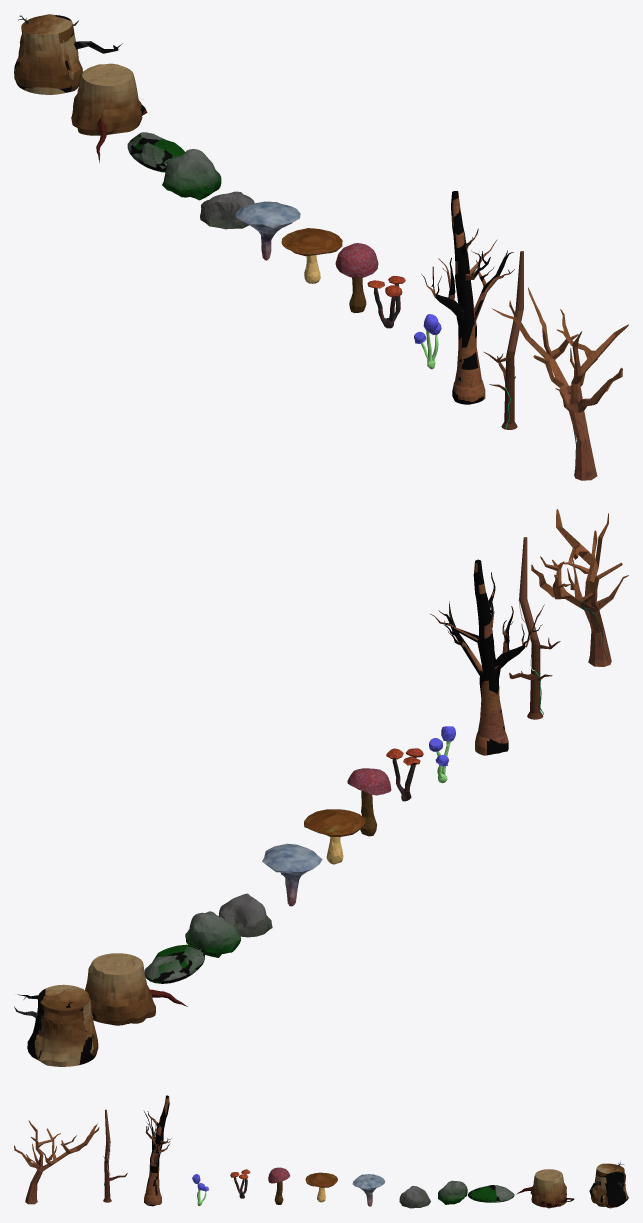
File: Props-2.fbx
3 renders of one model, top to bottom at view 1: azimuth 30°, elevation 25°; view 2: azimuth 150°, elevation 25°; view 3: azimuth 270°, elevation 25°, orthographic. The views are drawn at different scales.
Parts seen in each view (by area): view 1: Tree_1, Tree_3, Stump_1, Stump_2, Rock_2, Mush_1, Tree_2, Rock_1, Rock_3, Mush_2, Mush_4; view 2: Tree_1, Stump_1, Stump_2, Tree_3, Tree_2, Rock_2, Mush_1, Rock_1, Rock_3, Mush_2, Mush_4; view 3: Tree_1, Tree_3, Stump_1, Stump_2, Rock_1, Rock_2, Rock_3, Tree_2, Mush_1, Mush_2, Mush_4.
Boxes of the visible parts, x1=… form: Tree_1: x1=421, y1=191, x2=514, y2=404; Tree_3: x1=492, y1=287, x2=628, y2=480; Stump_1: x1=14, y1=14, x2=83, y2=94; Stump_2: x1=71, y1=63, x2=142, y2=135; Rock_2: x1=162, y1=149, x2=221, y2=200; Mush_1: x1=236, y1=201, x2=300, y2=260; Tree_2: x1=483, y1=251, x2=523, y2=429; Rock_1: x1=127, y1=132, x2=184, y2=172; Rock_3: x1=200, y1=191, x2=254, y2=229; Mush_2: x1=281, y1=228, x2=342, y2=256; Mush_4: x1=335, y1=243, x2=378, y2=278; Tree_1: x1=430, y1=559, x2=544, y2=755; Stump_1: x1=27, y1=984, x2=98, y2=1066; Stump_2: x1=85, y1=953, x2=155, y2=1025; Tree_3: x1=531, y1=509, x2=628, y2=666; Tree_2: x1=509, y1=537, x2=560, y2=719; Rock_2: x1=185, y1=911, x2=241, y2=957; Mush_1: x1=262, y1=843, x2=322, y2=906; Rock_1: x1=144, y1=944, x2=204, y2=983; Rock_3: x1=218, y1=893, x2=272, y2=937; Mush_2: x1=304, y1=809, x2=365, y2=836; Mush_4: x1=347, y1=768, x2=391, y2=795; Tree_1: x1=143, y1=1095, x2=171, y2=1206; Tree_3: x1=14, y1=1120, x2=99, y2=1204; Stump_1: x1=591, y1=1163, x2=628, y2=1208; Stump_2: x1=530, y1=1169, x2=566, y2=1208; Rock_1: x1=468, y1=1185, x2=514, y2=1202; Rock_2: x1=438, y1=1180, x2=467, y2=1204; Rock_3: x1=399, y1=1186, x2=430, y2=1208; Tree_2: x1=103, y1=1109, x2=127, y2=1202; Mush_1: x1=352, y1=1174, x2=385, y2=1206; Mush_2: x1=305, y1=1172, x2=337, y2=1187; Mush_4: x1=268, y1=1167, x2=290, y2=1183.
Size of the model in its own units: 3976 by 792 by 438.
